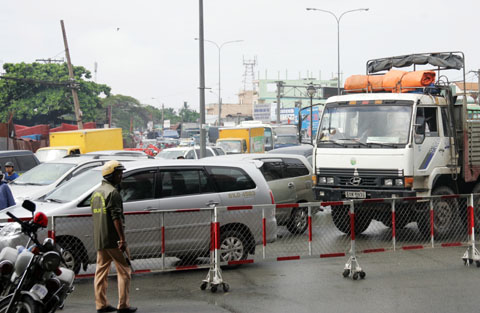police: (94, 159, 139, 312)
